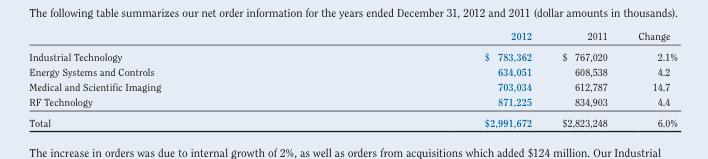table: (28, 29, 676, 127)
table column: (28, 29, 321, 127), (321, 29, 546, 127), (546, 29, 622, 127), (622, 29, 676, 127)
table column header: (28, 29, 676, 45)
table row: (28, 45, 676, 63), (28, 93, 676, 111), (28, 29, 676, 45), (28, 111, 676, 127), (28, 63, 676, 78), (28, 78, 676, 93)
